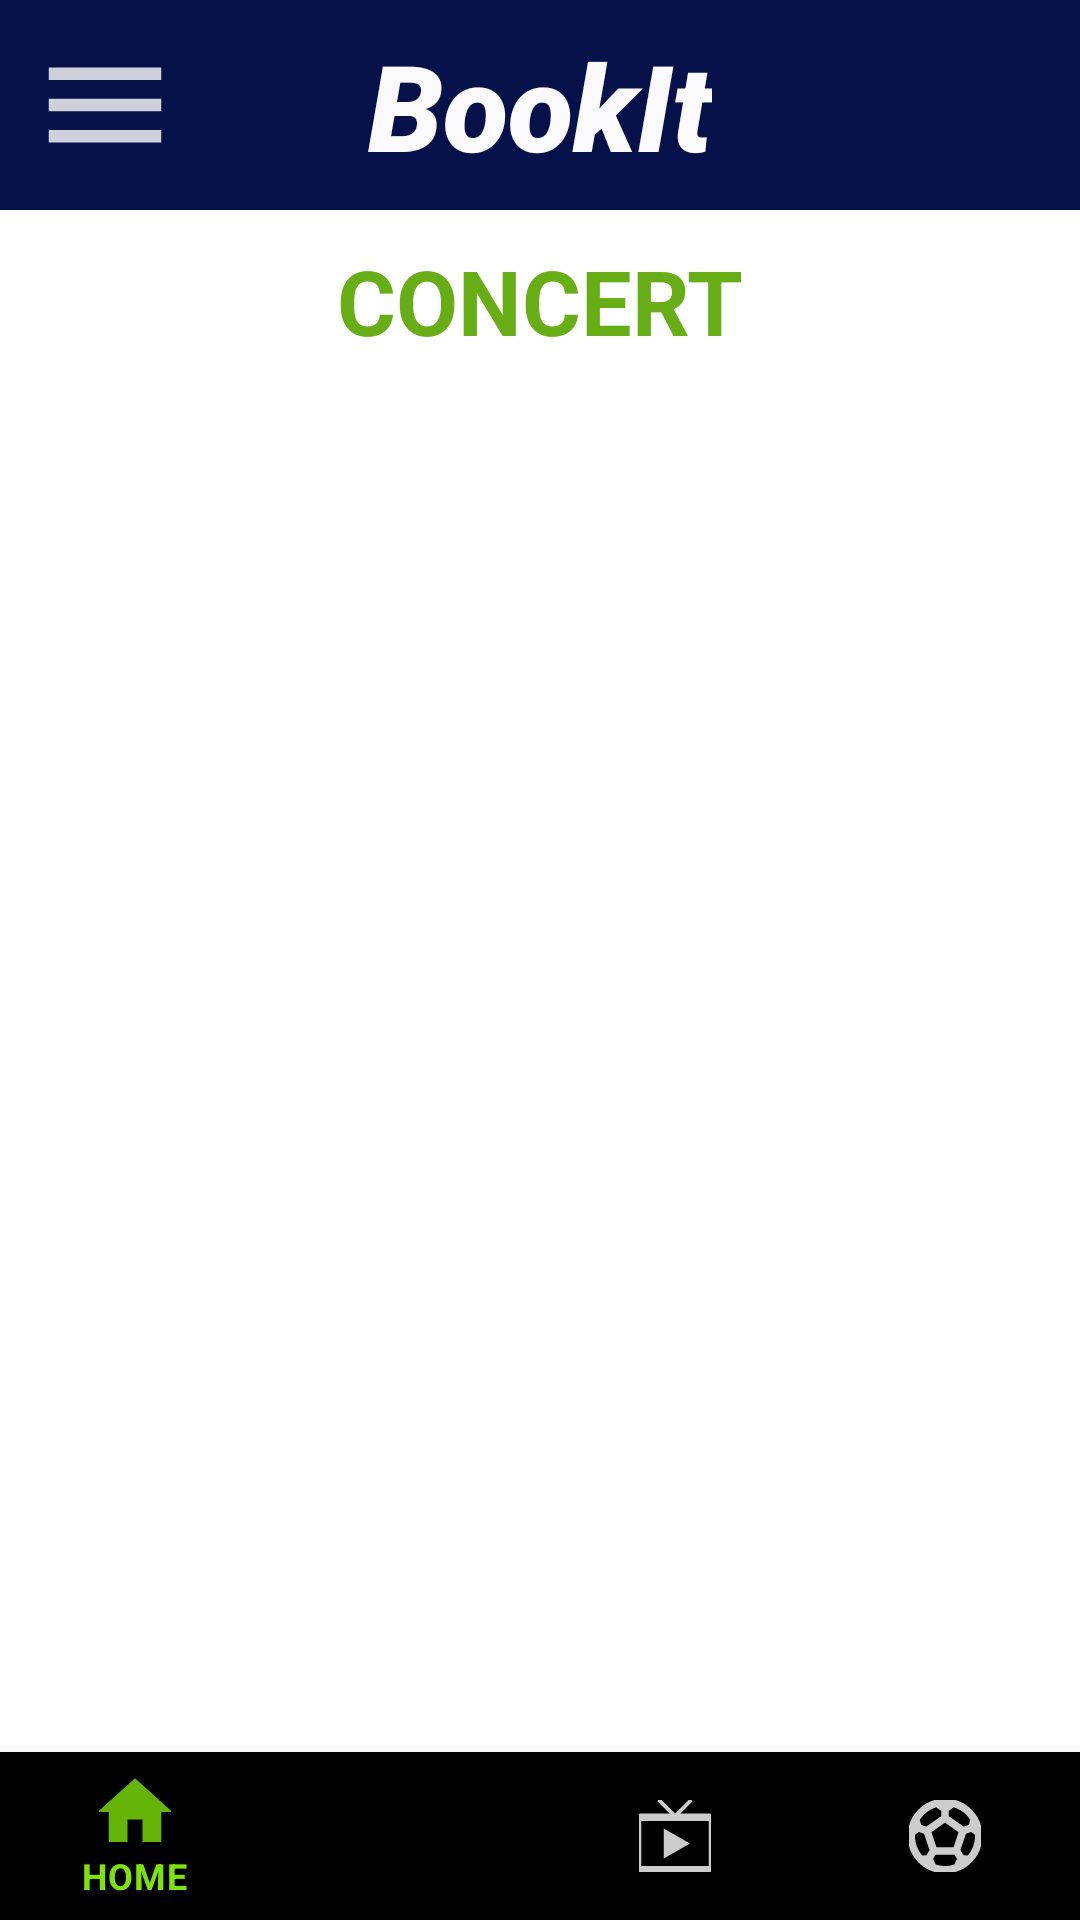

Icons on this 1080px×1920px Android screen, each with its box as (x1, y1, x2, y2):
menu: (48, 67, 162, 143)
